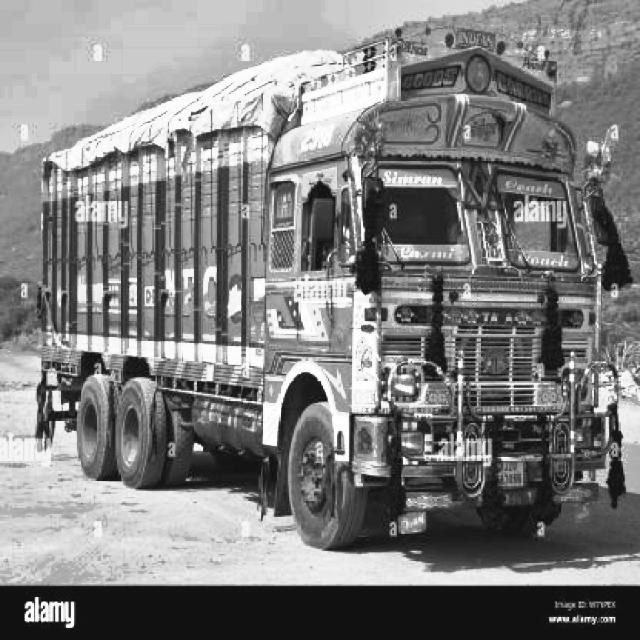HCV: (40, 109, 603, 539)
